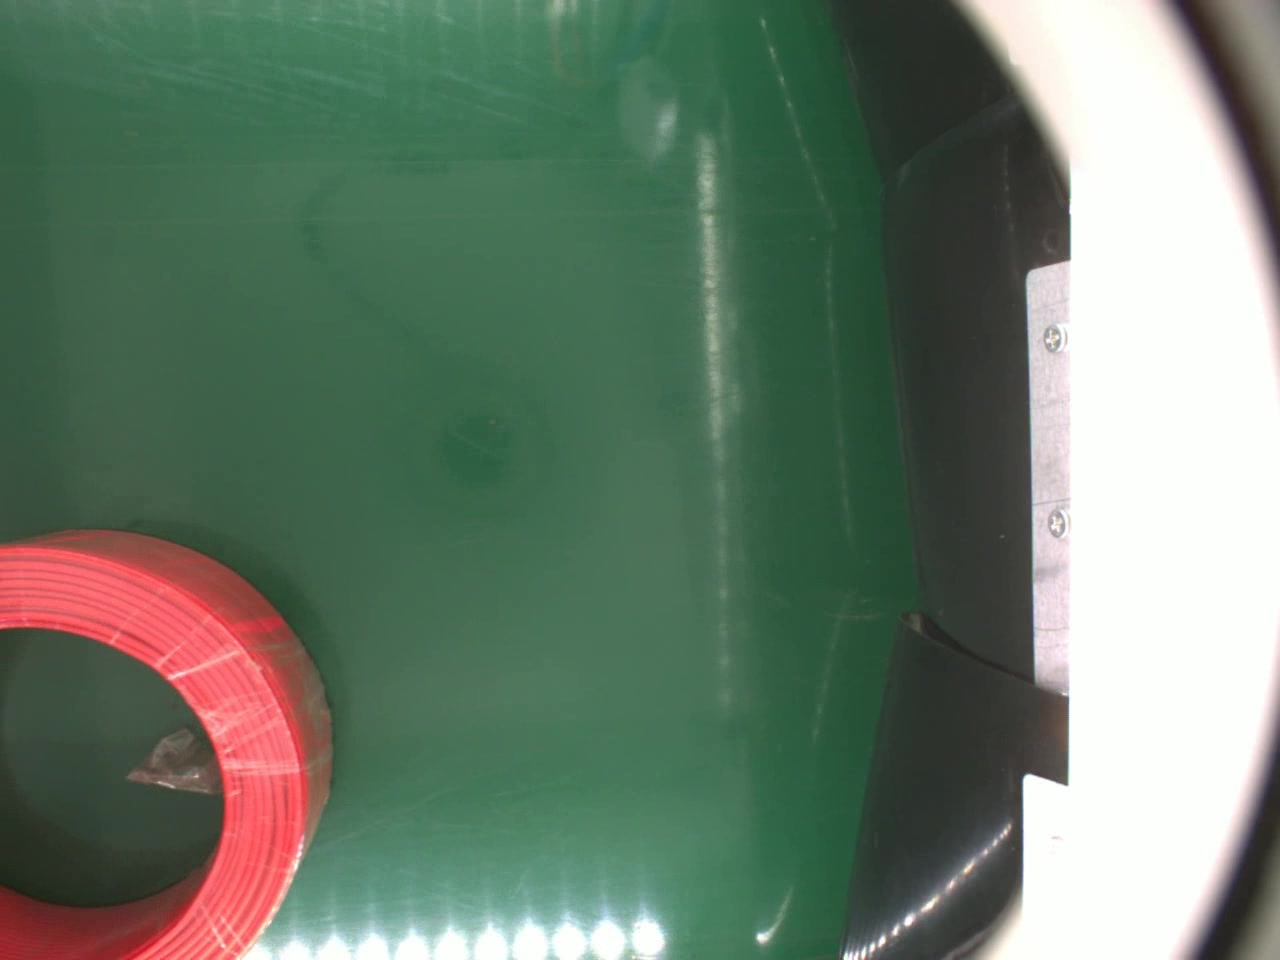red: (0, 528, 336, 960)
